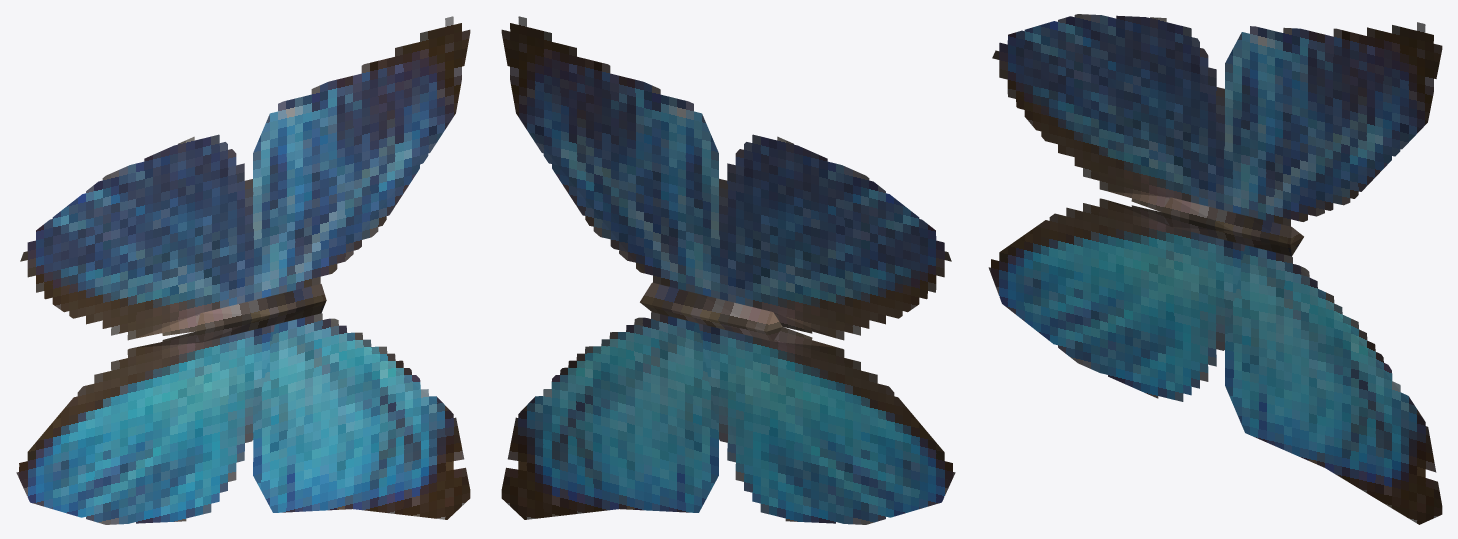
Rendered from BlueMorpho.obj.
The picture shows the model from 3 angles, left to right: view 1: azimuth 30°, elevation 25°; view 2: azimuth 150°, elevation 25°; view 3: azimuth 330°, elevation 25°; orthographic projection.
Visible parts, largest first — view 1: BlueMorpho; view 2: BlueMorpho; view 3: BlueMorpho.
Boxes of the visible parts, box(x1,y1,x2,y2) form: BlueMorpho: box(16, 16, 470, 524); BlueMorpho: box(501, 16, 955, 524); BlueMorpho: box(988, 14, 1442, 524).
Size of the model in its own units: 32.44 by 34.29 by 1.5.
